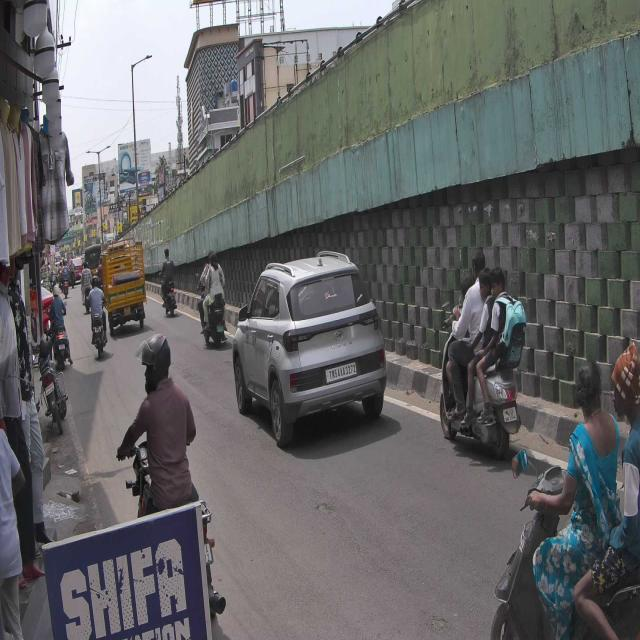triple_rider: (435, 246, 525, 456)
